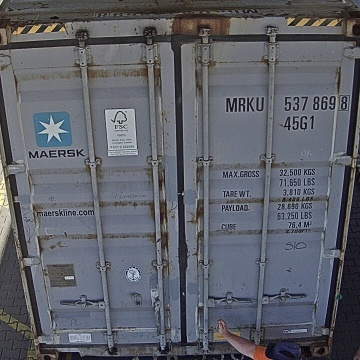serial_id: (226, 94, 350, 111)
